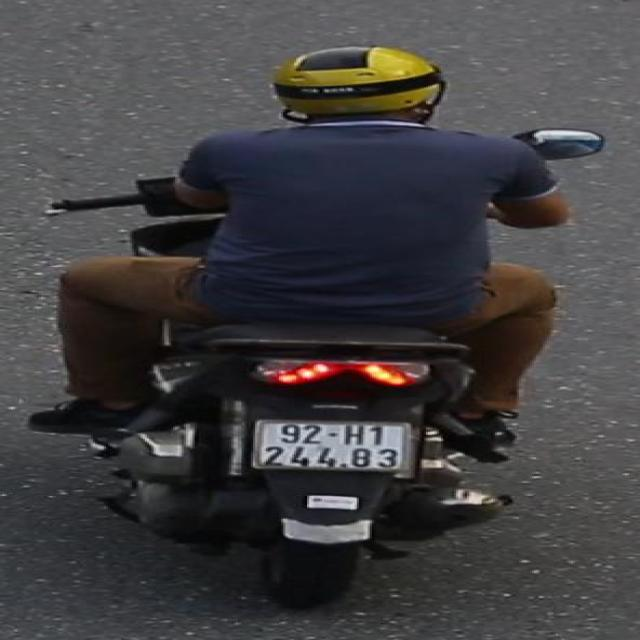LP: (246, 412, 424, 477)
helmet: (266, 40, 456, 135)
